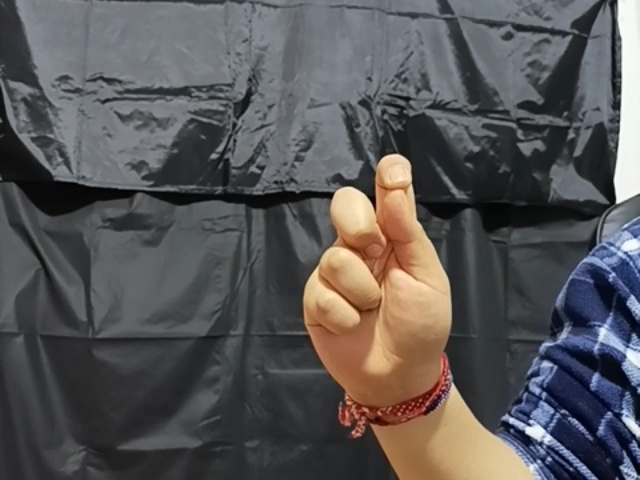T: (295, 152, 466, 381)
